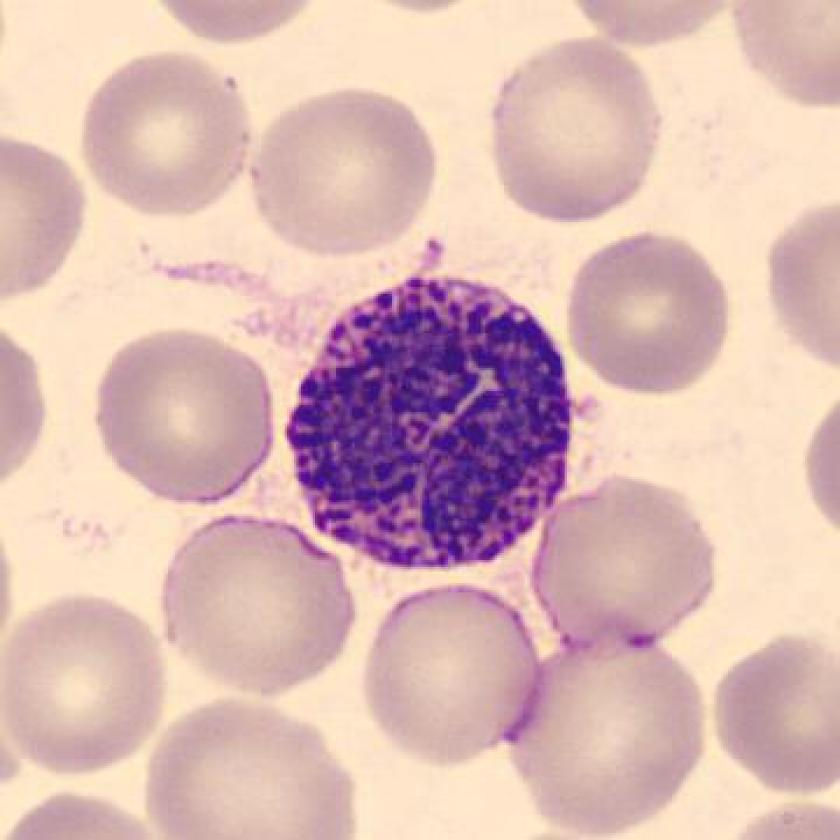basophil: (288, 272, 580, 568)
